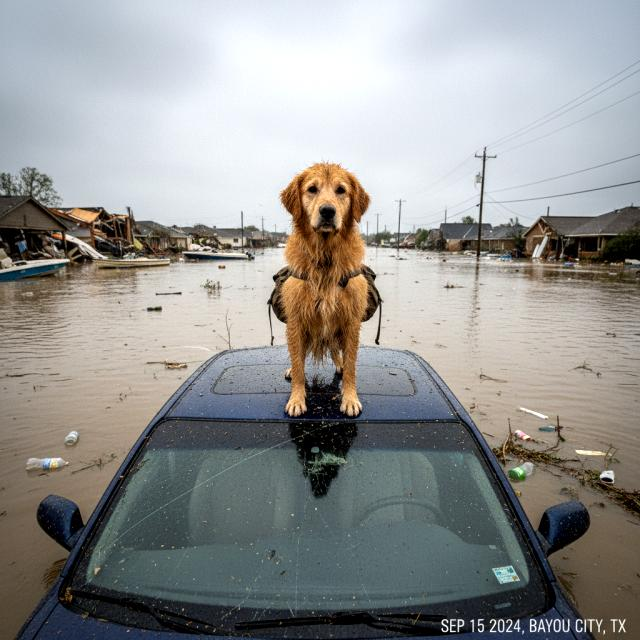dog: (253, 141, 390, 438)
